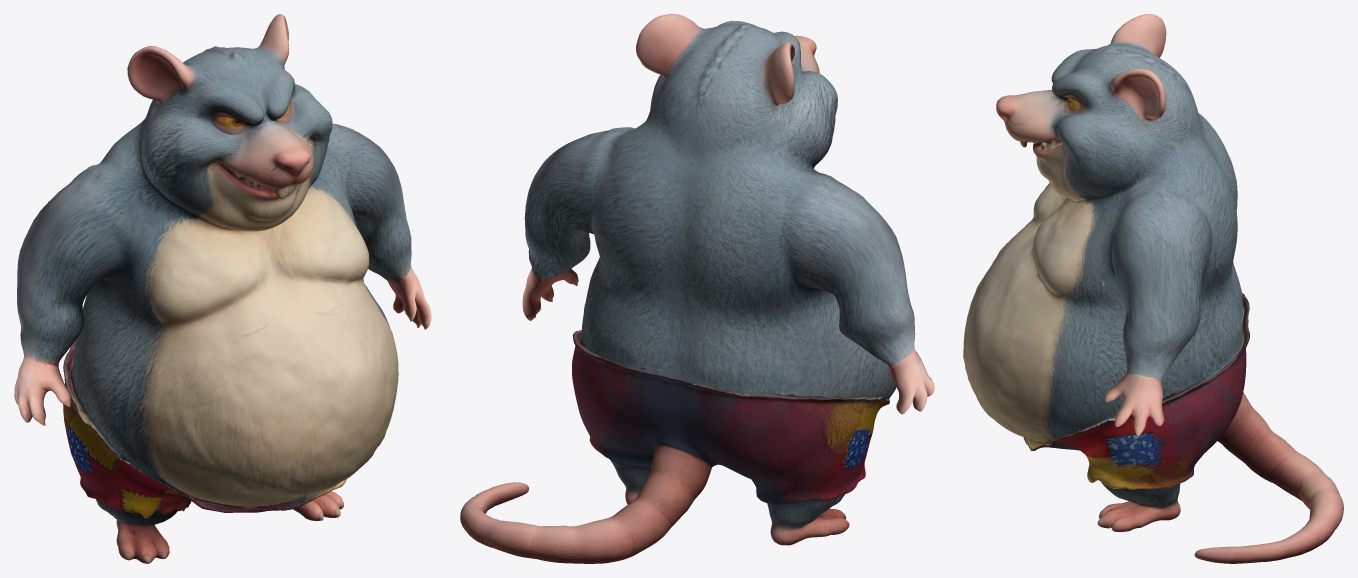
File: tikus_rakus.glb
3 views of the same model, side by side, from view 1: azimuth 30°, elevation 25°; view 2: azimuth 150°, elevation 25°; view 3: azimuth 270°, elevation 25° (orthographic). The views are drawn at different scales.
Visible parts, largest first — view 1: tripo_node_1fd66285-53bb-4743-97db-15bac6a7db08; view 2: tripo_node_1fd66285-53bb-4743-97db-15bac6a7db08; view 3: tripo_node_1fd66285-53bb-4743-97db-15bac6a7db08.
Boxes of the visible parts, left/top/right/bottom form: tripo_node_1fd66285-53bb-4743-97db-15bac6a7db08: left=14, top=14, right=431, bottom=563; tripo_node_1fd66285-53bb-4743-97db-15bac6a7db08: left=460, top=14, right=934, bottom=563; tripo_node_1fd66285-53bb-4743-97db-15bac6a7db08: left=963, top=14, right=1343, bottom=563.
Size of the model in its own units: 0.743 by 0.8641 by 0.6711.
1 material, 1 textured.
